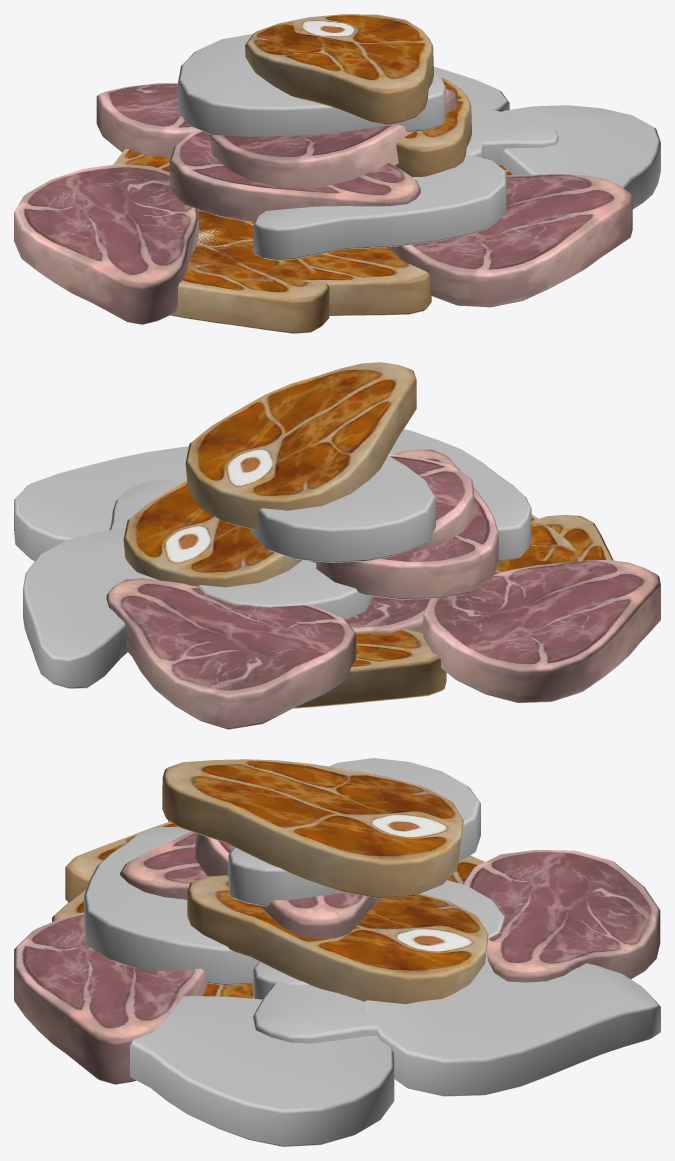
3 views of the same model, one above another, from view 1: azimuth 30°, elevation 25°; view 2: azimuth 150°, elevation 25°; view 3: azimuth 270°, elevation 25° (orthographic). The views are drawn at different scales.
Visible parts, largest first — view 1: SM_Dec_Pile_of_meats_LOD0; view 2: SM_Dec_Pile_of_meats_LOD0; view 3: SM_Dec_Pile_of_meats_LOD0.
Boxes of the visible parts, <box> form: SM_Dec_Pile_of_meats_LOD0: <box>14,14,660,333</box>; SM_Dec_Pile_of_meats_LOD0: <box>14,362,660,729</box>; SM_Dec_Pile_of_meats_LOD0: <box>14,758,660,1146</box>.
Size of the model in its own units: 0.7785 by 0.2421 by 0.6629.
